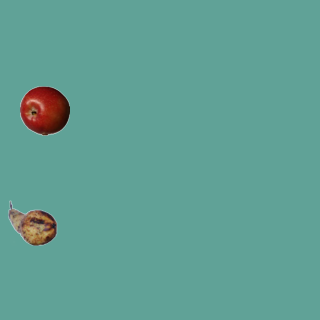Apple Braeburn: (19, 85, 69, 135)
Pear Abate: (7, 198, 57, 248)
